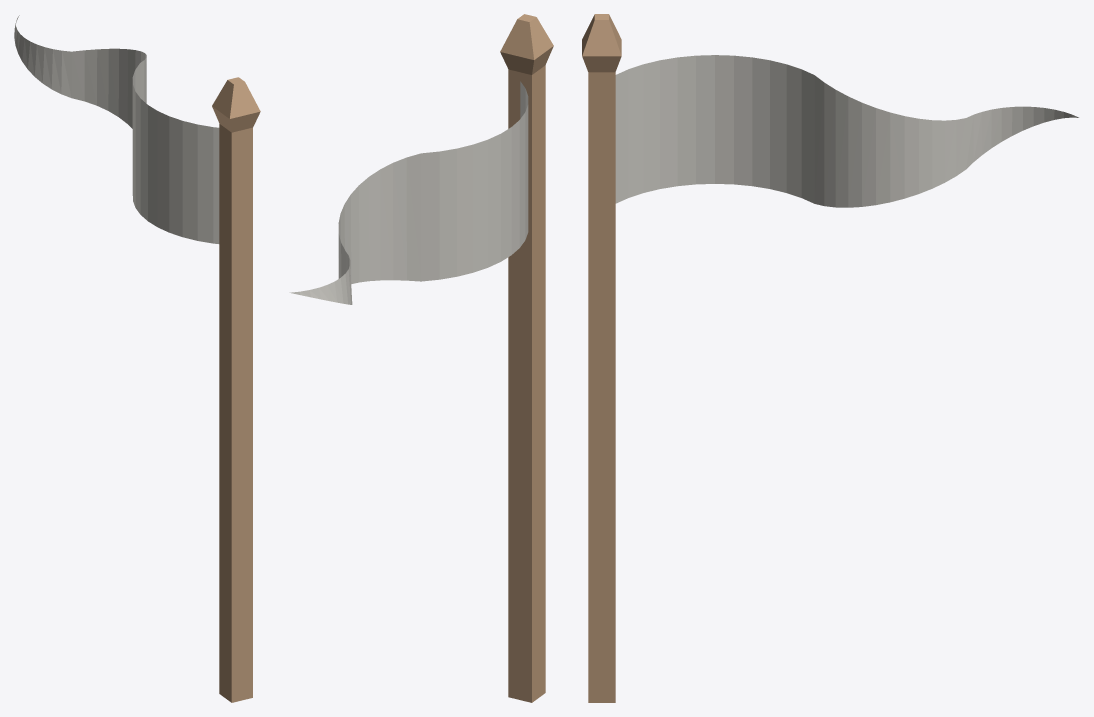
Rendered from flagwhite.glb.
3 views of the same model, side by side, from view 1: azimuth 30°, elevation 25°; view 2: azimuth 150°, elevation 25°; view 3: azimuth 270°, elevation 25° (orthographic). The views are drawn at different scales.
Parts seen in each view (by area): view 1: flagWhite, flag 1; view 2: flag 1, flagWhite; view 3: flag 1, flagWhite.
Part boxes in pixels (<box>): flagWhite: <box>212,77,260,702</box>; flag 1: <box>14,15,219,243</box>; flag 1: <box>289,81,528,304</box>; flagWhite: <box>500,14,553,702</box>; flag 1: <box>615,55,1078,207</box>; flagWhite: <box>582,14,621,702</box>.
Bounding box in the file's own units: 0.8991 × 7.92 × 5.25.
